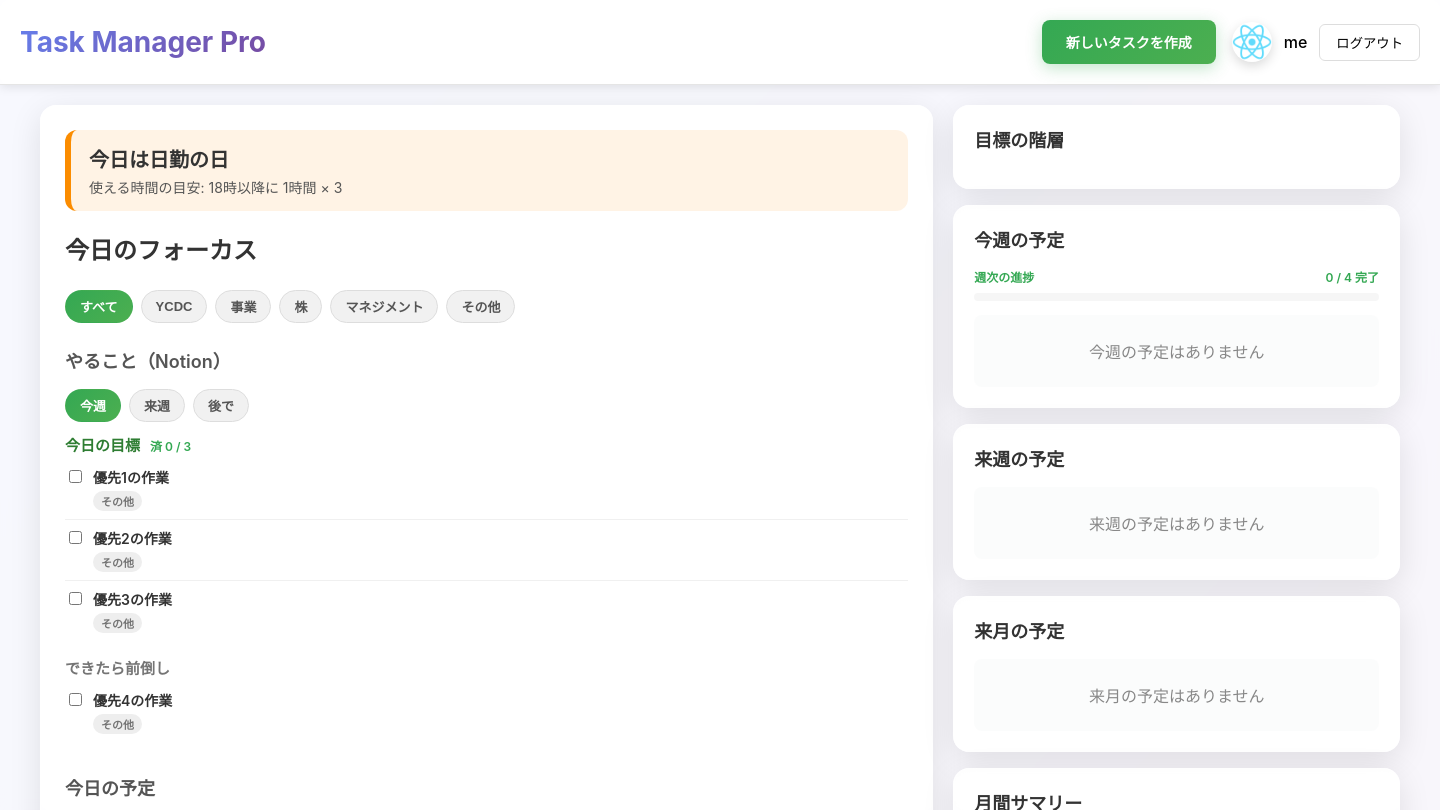
two rows can be open at the same time, and a row stays open when it moves between 今日の目標 and できたら前倒し
Expected: the element "できたら前倒し" is shown, [65,657,908,742]
Click the button "優先1の作業".
click(131, 478)  # box [93,467,908,487]
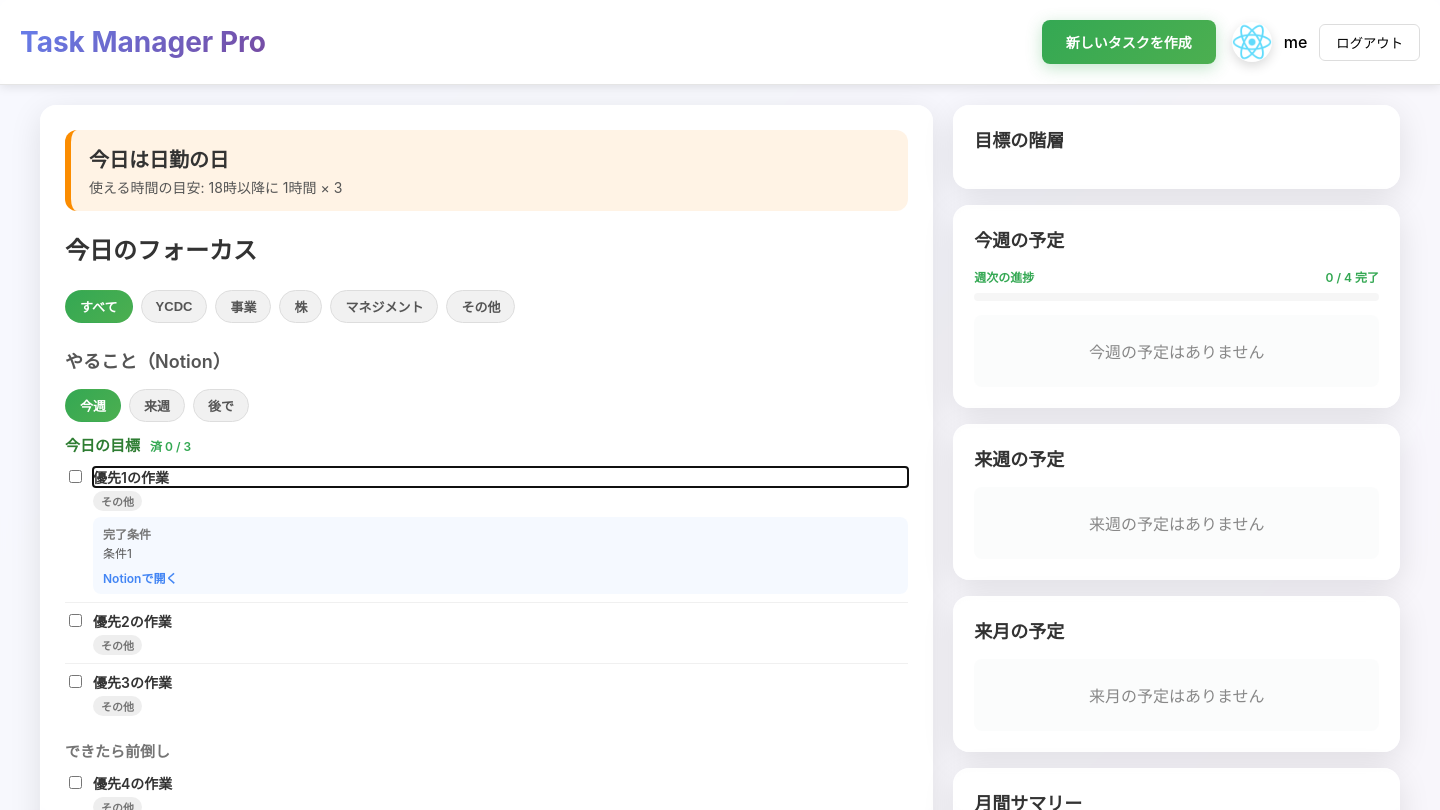
Click the button "優先4の作業".
click(133, 784)  # box [93,773,908,793]
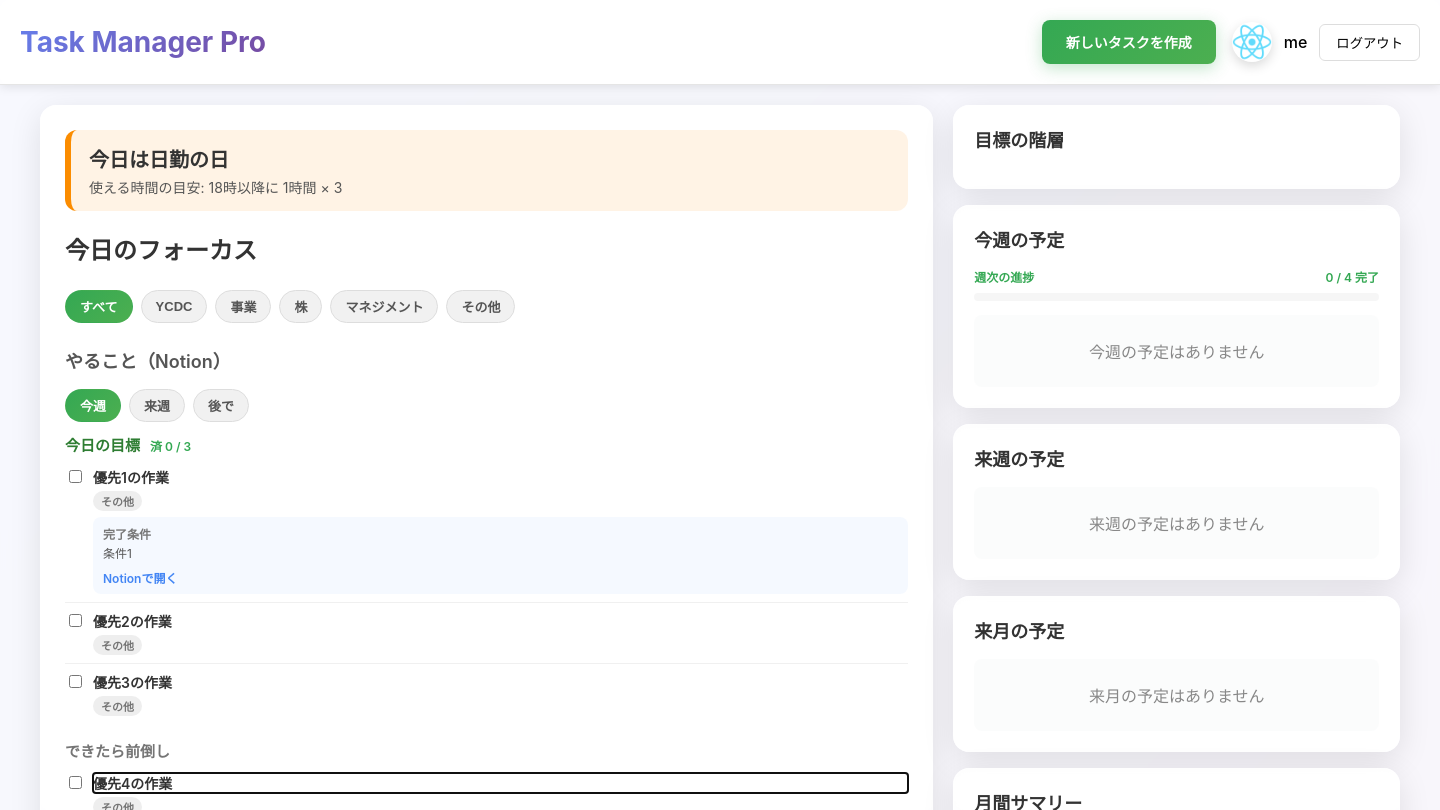
Expected: the text "条件1" is shown, [103,546,132,561]
# 前倒しにあった優先4を済にすると、今日の目標のほうへ移る。開いたまま
Click the checkbox named "優先4の作業".
click(76, 782)  # box [69,776,82,789]
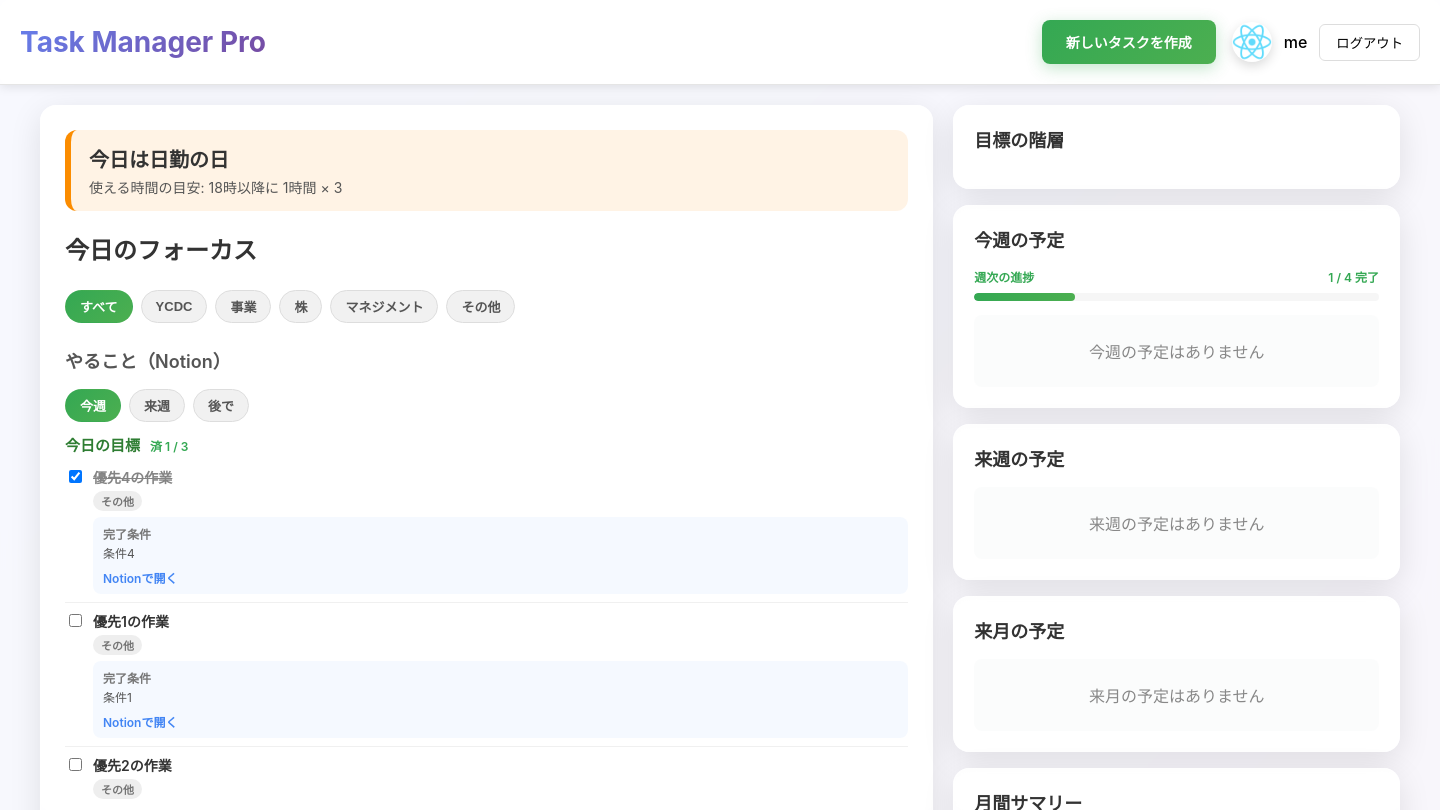
Expected: the text "条件4" is shown, [103,546,135,561]
Expected: the text "条件1" is shown, [103,690,132,705]
Expected: the checkbox named "優先4の作業" is checked, [69,470,82,483]
